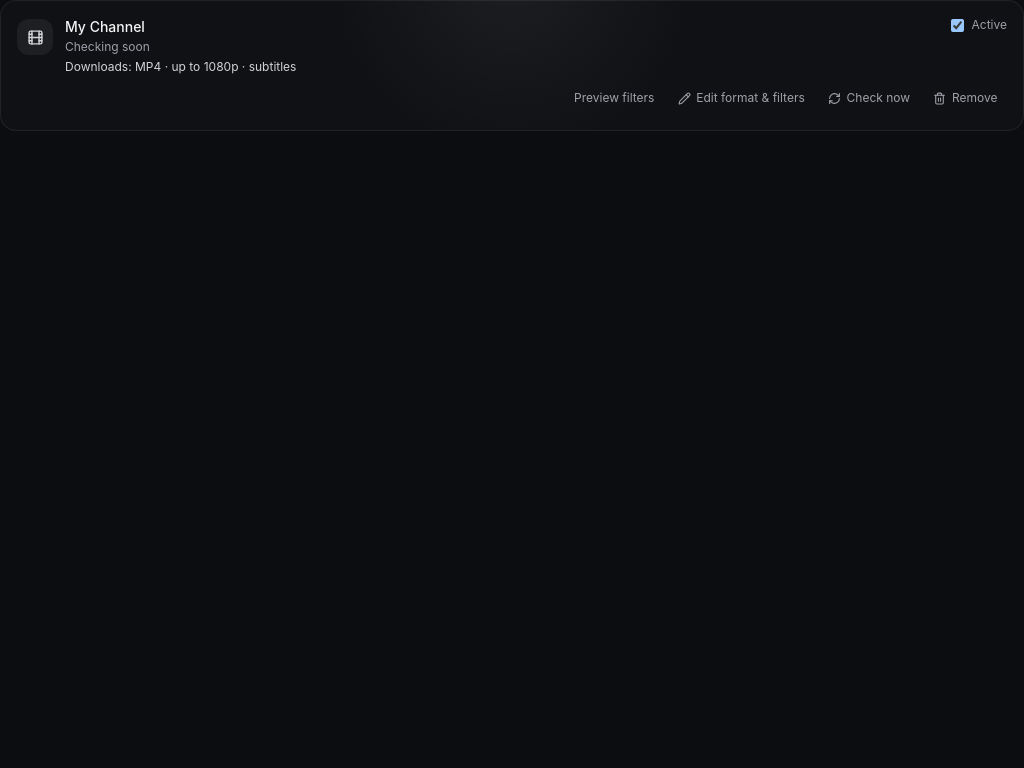
Test case: SubscriptionCard › saves the complete settings object with only the edited fields changed
Step 1. Click the button "Edit format & filters" → click(741, 98), box [668, 83, 814, 114]
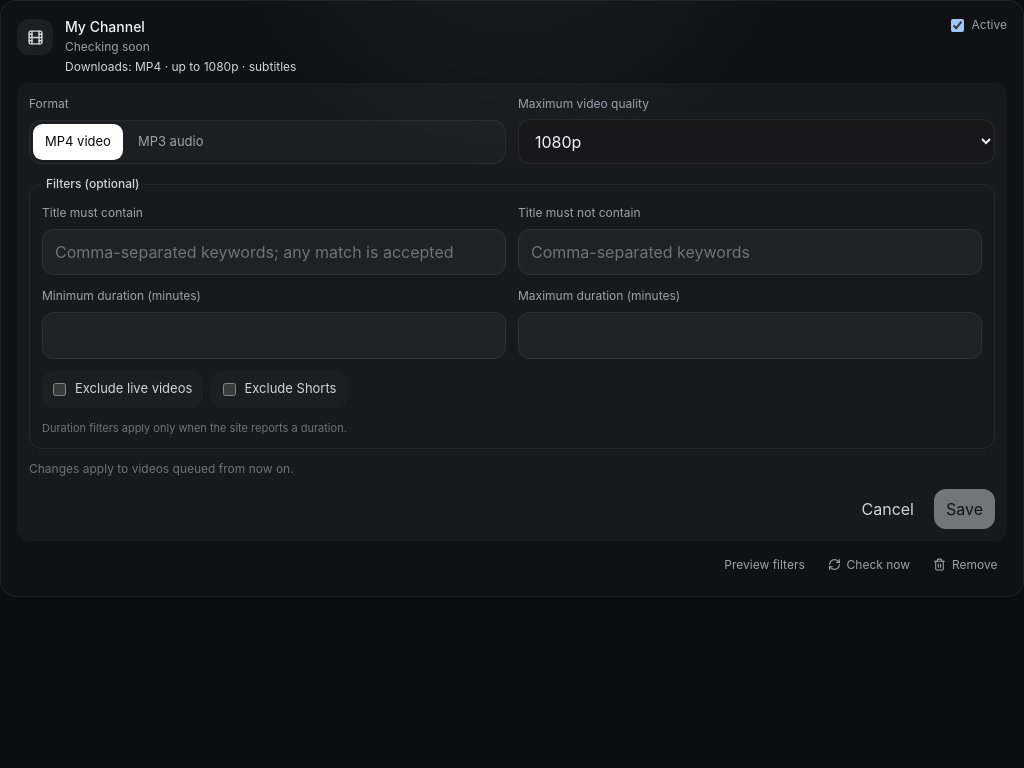
Step 2. Click the radio button labelled "MP3 audio" → click(171, 142), box [126, 124, 216, 160]
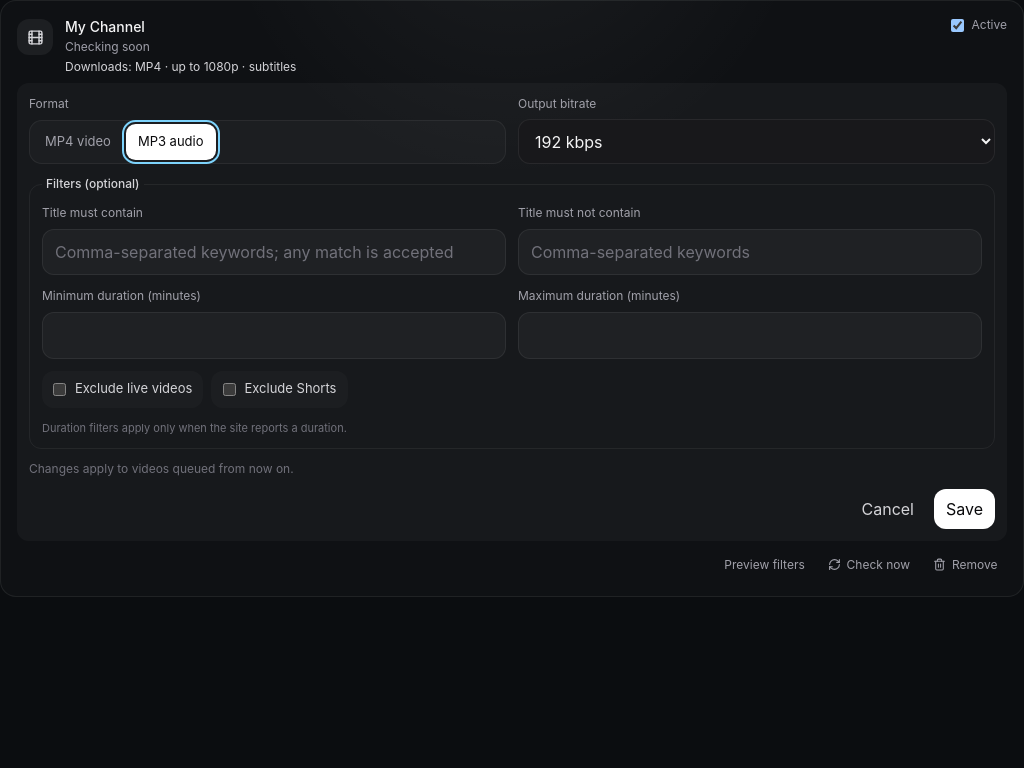
Step 3. Select "320 kbps" in the dropdown labelled "Output bitrate" → (756, 142), box [518, 119, 995, 164]
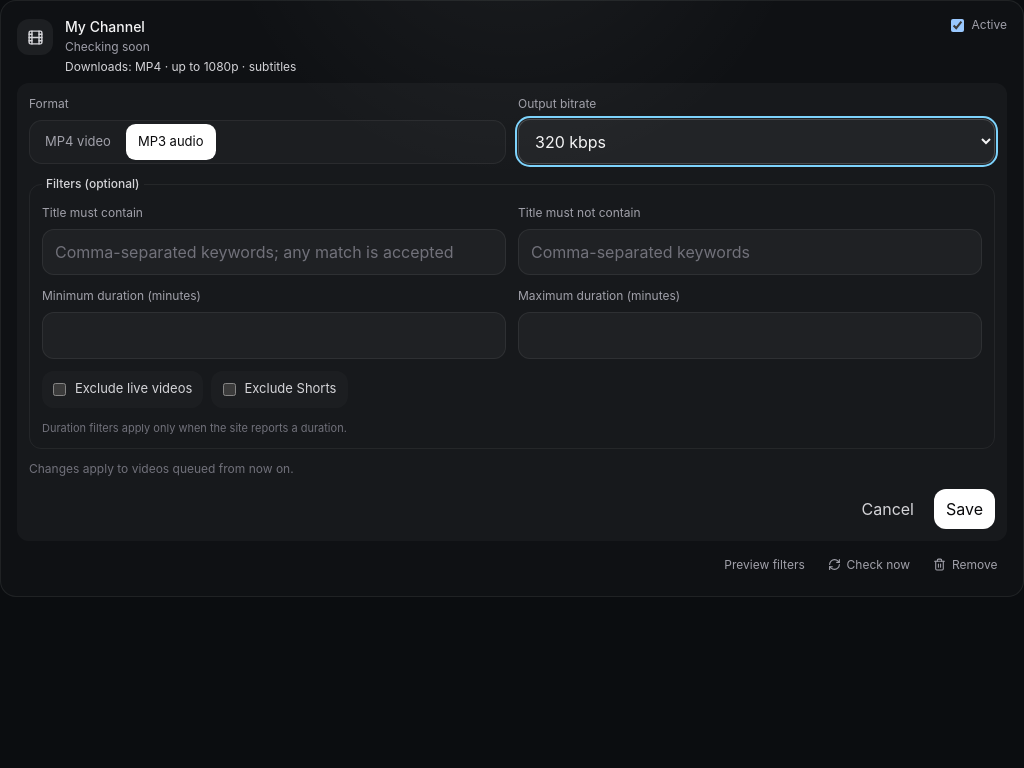
Step 4. Click the button "Save" → click(964, 509), box [934, 489, 995, 529]
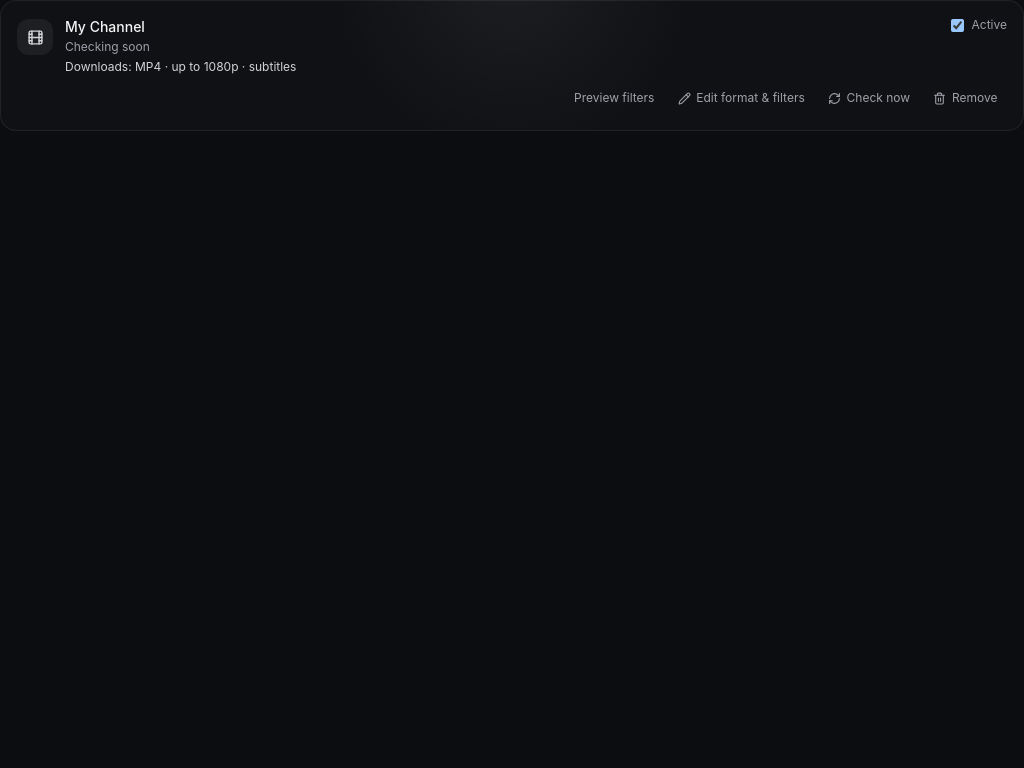
Now the button "Save" is gone
